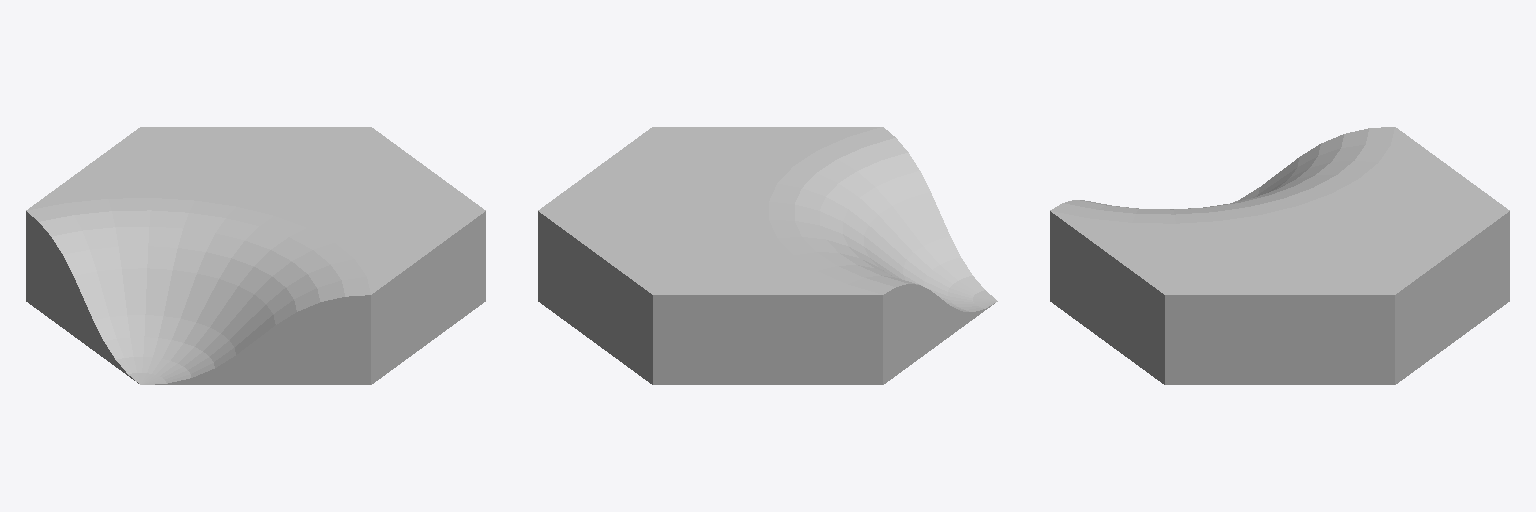
Rendered from Terrain_Grass_Hill_Curve_Inner_Sharp 1.obj.
The picture shows the model from 3 angles: view 1: azimuth 30°, elevation 25°; view 2: azimuth 150°, elevation 25°; view 3: azimuth 270°, elevation 25°; orthographic projection.
Parts seen in each view (by area): view 1: object1; view 2: object1; view 3: object1.
Boxes of the visible parts, x1=… form: object1: x1=26, y1=127, x2=485, y2=384; object1: x1=538, y1=127, x2=997, y2=384; object1: x1=1050, y1=127, x2=1509, y2=384.
Size of the model in its own units: 1 by 0.25 by 1.15.